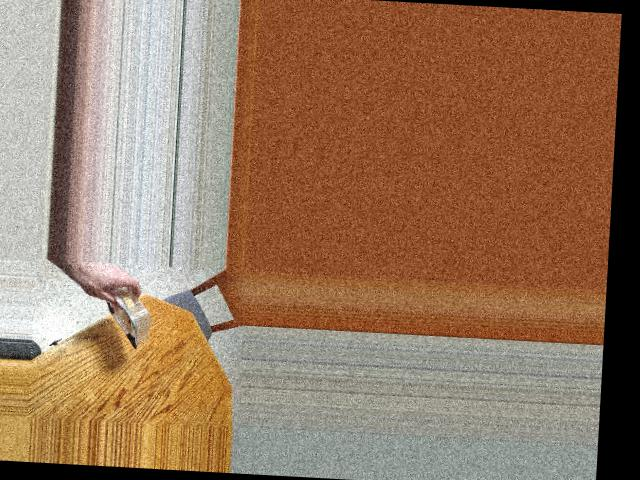cheese: (82, 277, 160, 344)
